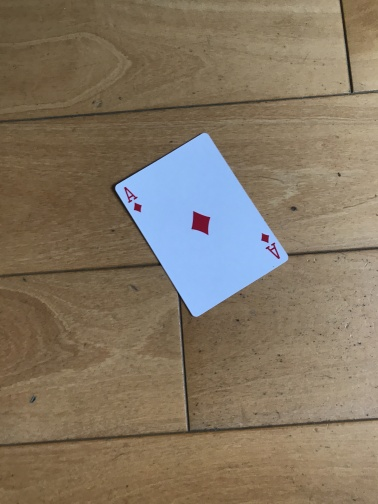ace: (112, 131, 289, 318)
